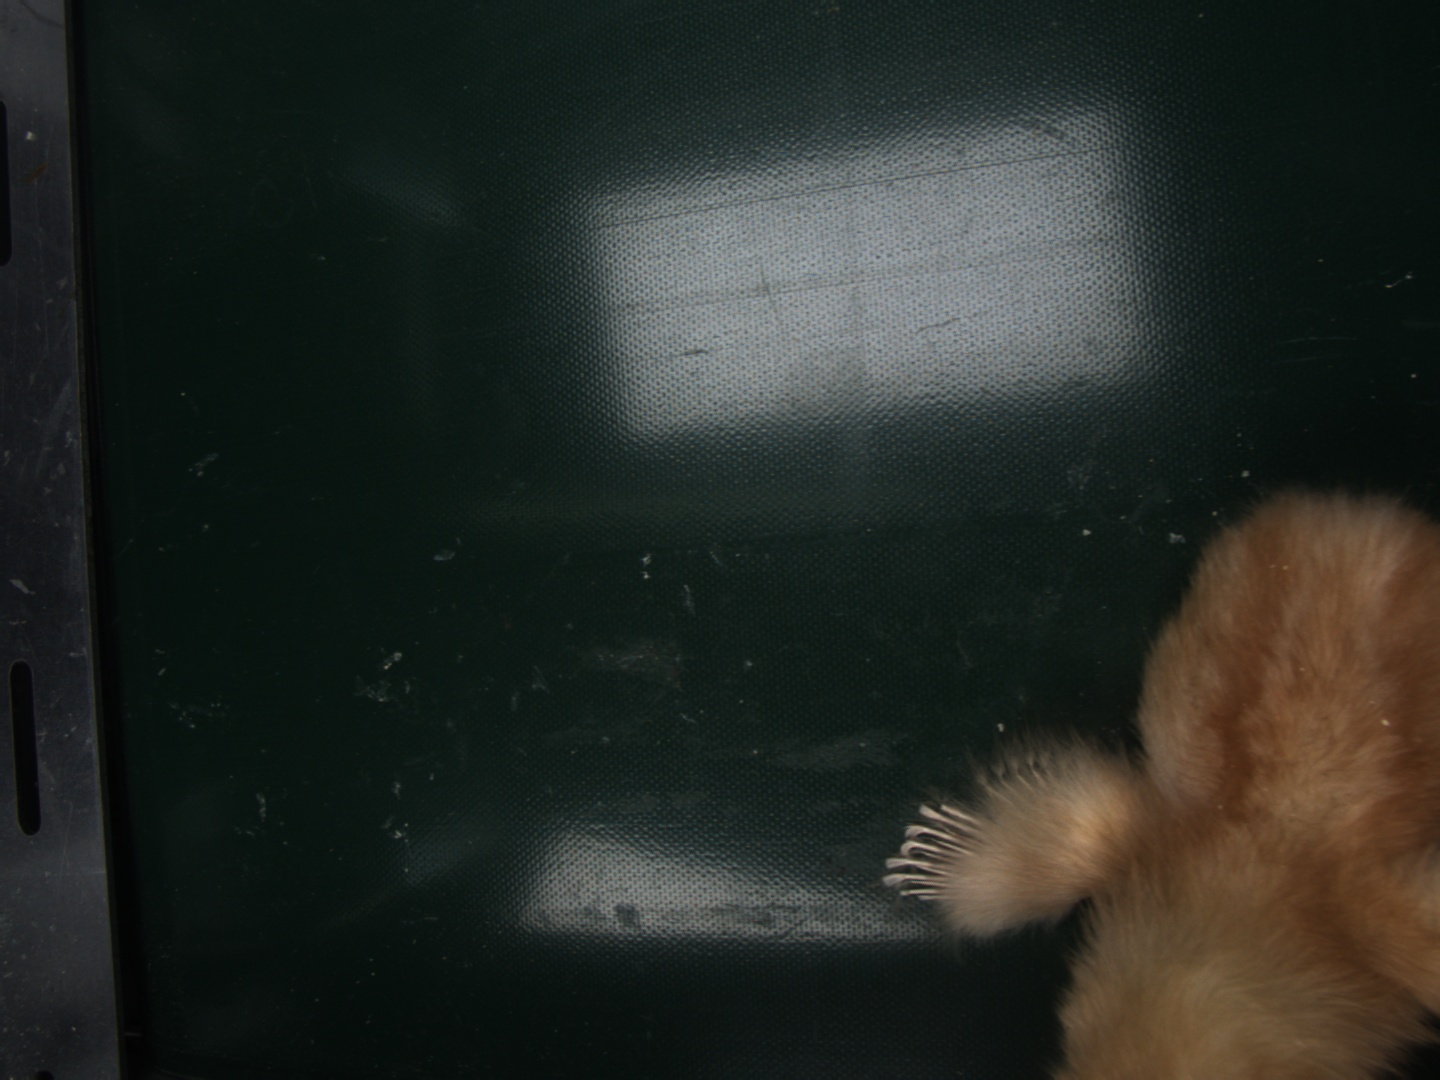female: (880, 800, 992, 902)
